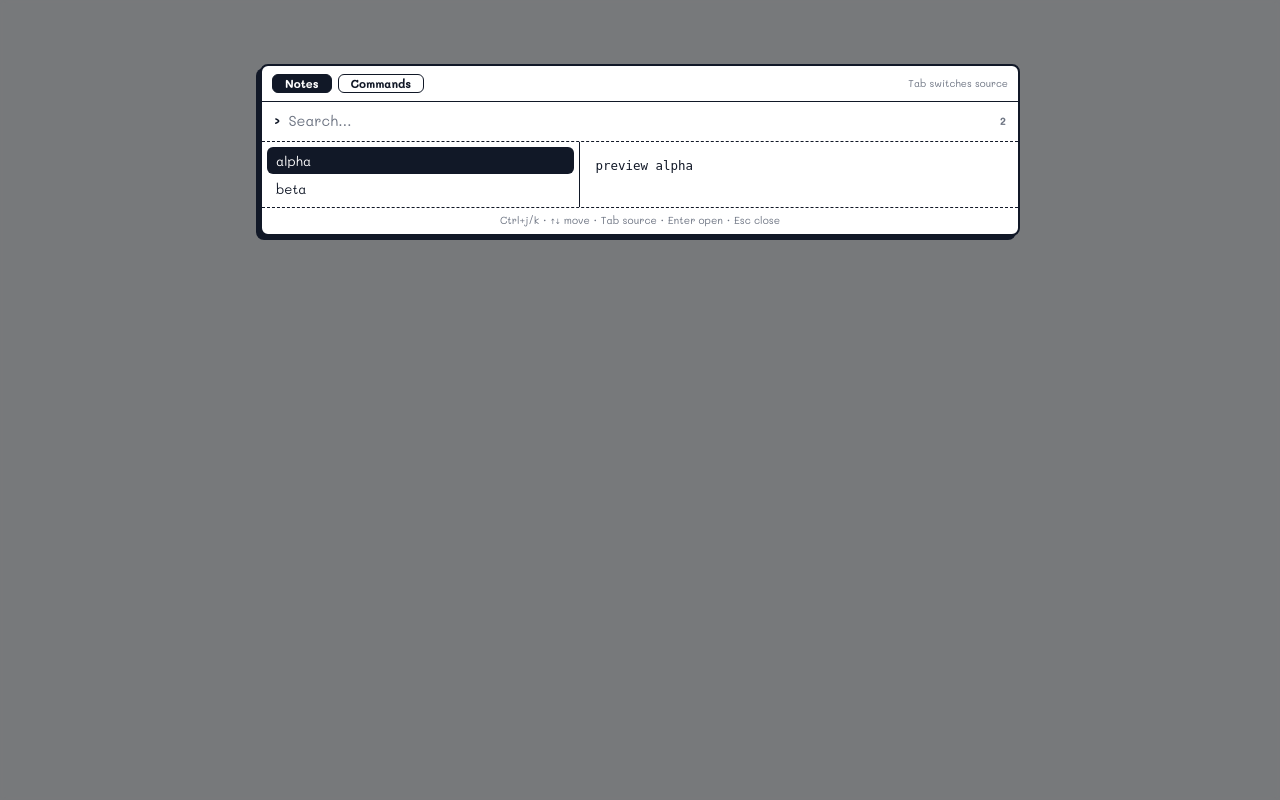
Test: Telescope › filters results by the prompt query
The image size is (1280, 800).
In the field with placeholder "Search…": (640, 121) top-left (288, 113), bottom-right (992, 130), type "alp"
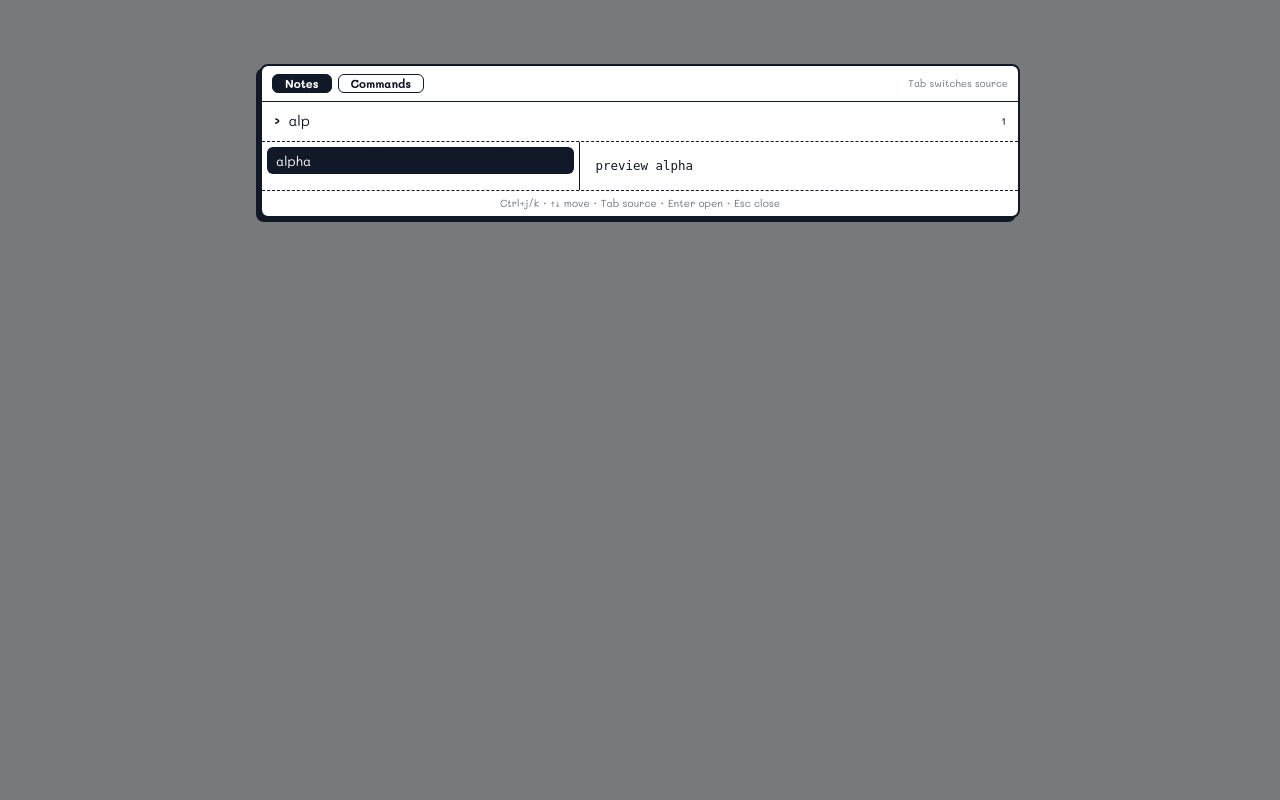
Check: the text "alpha" is shown, box top-left (276, 152), bottom-right (311, 169)
Check: the button "beta" is gone
